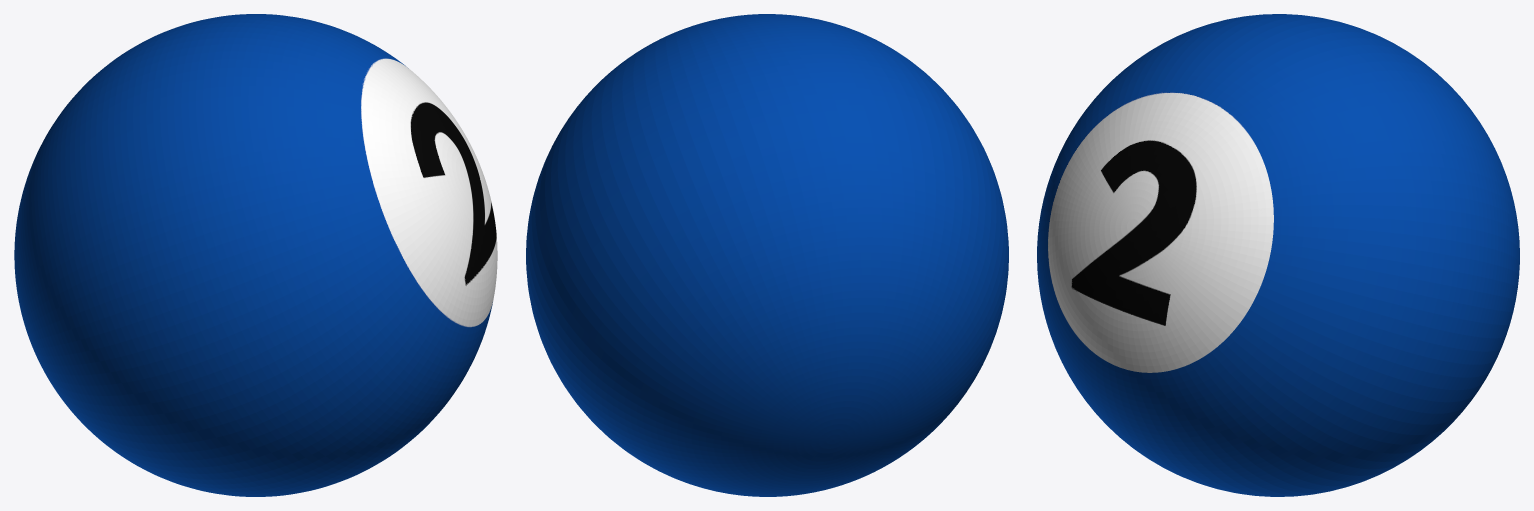
3 views of the same model, side by side, from view 1: azimuth 30°, elevation 25°; view 2: azimuth 150°, elevation 25°; view 3: azimuth 270°, elevation 25° (orthographic).
Parts seen in each view (by area): view 1: Sphere; view 2: Sphere; view 3: Sphere.
Part boxes in pixels (x1,y1,x2,y2): Sphere: [14, 14, 497, 496]; Sphere: [526, 14, 1008, 496]; Sphere: [1037, 14, 1519, 496].
Bounding box in the file's own units: 3.7 × 3.7 × 3.7.
1 material, 1 textured.
